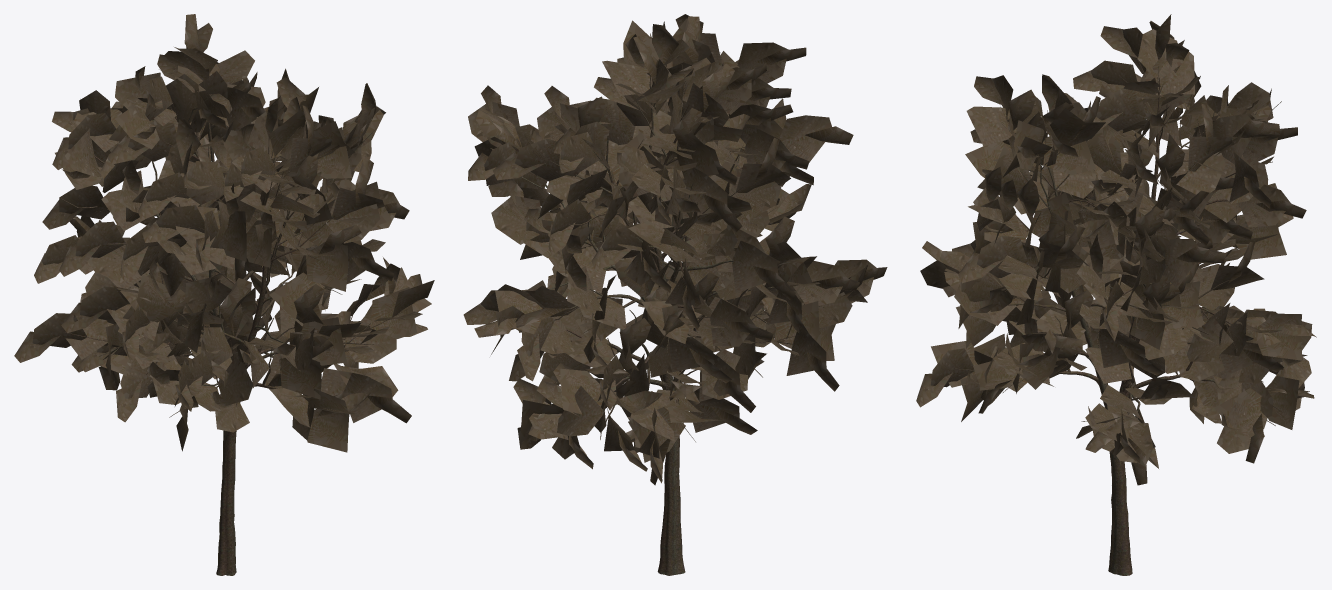
Rendered from SM_Alder_Winter_01b.fbx.
3 views of the same model, side by side, from view 1: azimuth 30°, elevation 25°; view 2: azimuth 150°, elevation 25°; view 3: azimuth 270°, elevation 25° (orthographic). The views are drawn at different scales.
Parts seen in each view (by area): view 1: SM_Alder_Winter_01b_LOD0; view 2: SM_Alder_Winter_01b_LOD0; view 3: SM_Alder_Winter_01b_LOD0.
Part boxes in pixels (<box>): SM_Alder_Winter_01b_LOD0: <box>14,14,434,575</box>; SM_Alder_Winter_01b_LOD0: <box>463,14,887,575</box>; SM_Alder_Winter_01b_LOD0: <box>916,14,1316,575</box>.
Size of the model in its own units: 1656 by 1514 by 2283.
